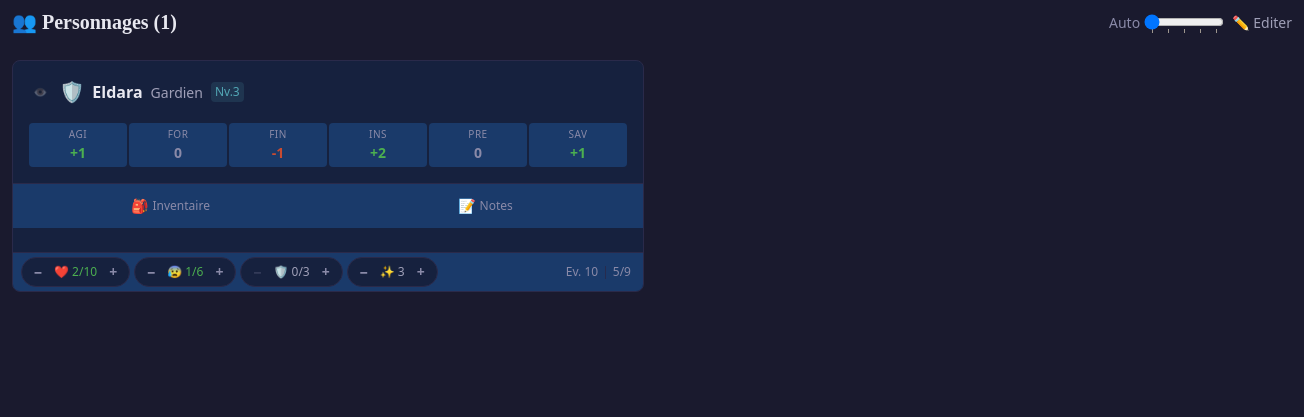
Test: Onglet Notes › affiche un textarea quand l'onglet Notes est actif
Click the tab "📝 Notes": (486, 206) [328,184,643,228]
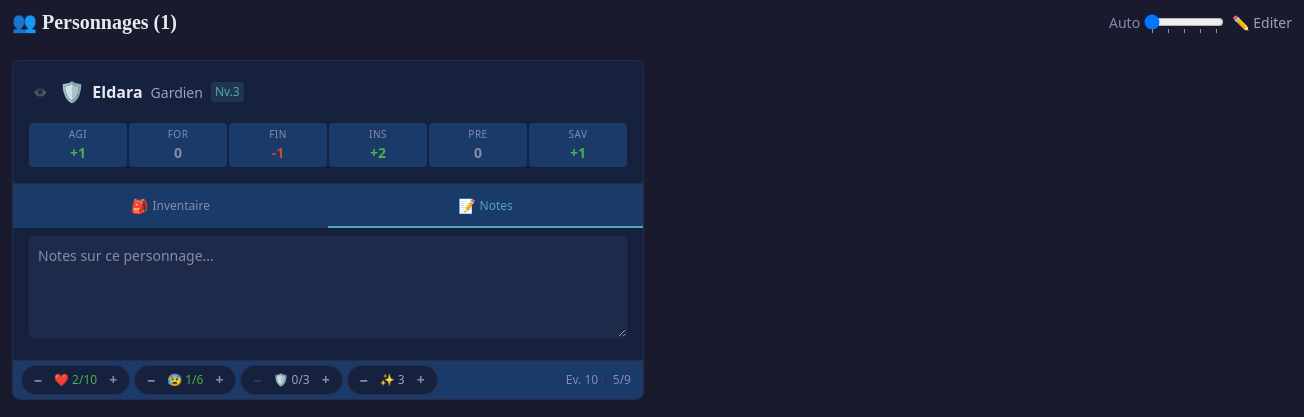
Result: the text box with placeholder "Notes sur ce personnage..." is shown at [29,236,627,338]
